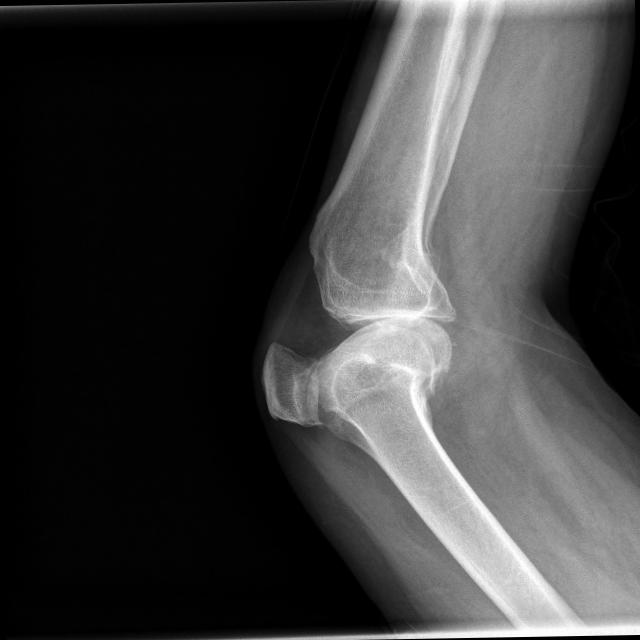Knee: (261, 252, 467, 426)
